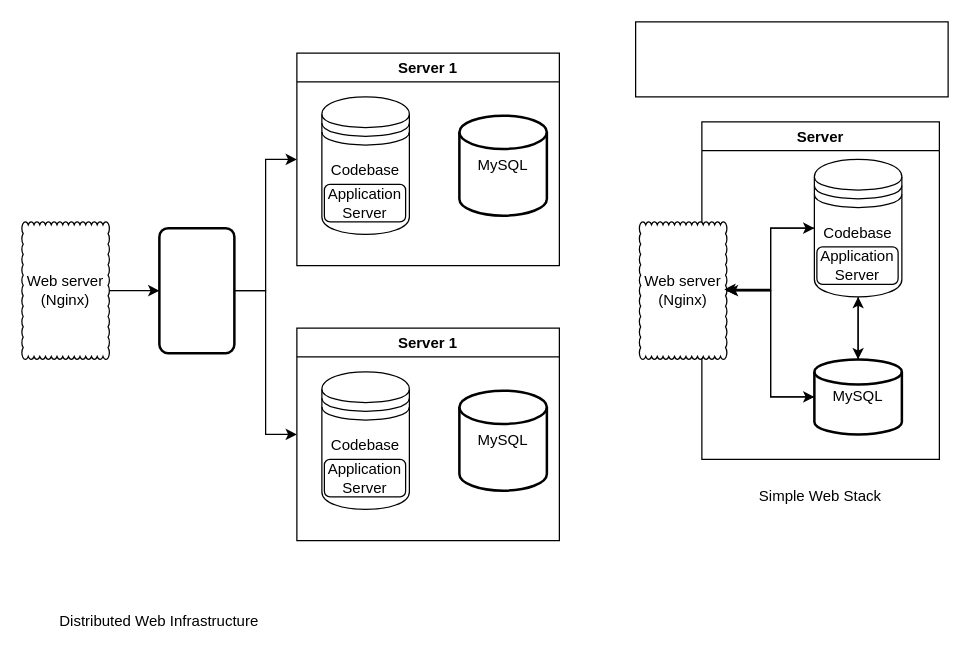
This 970x663 diagram has some shape labels left out. Here are the shapes that lost their labels. From the top down, the box of each, then its label:
(634, 21, 948, 97): CNAME: www.foobar.com foobar.com A: foobar.com 8.8.8.8
(158, 226, 235, 354): Load Balancer (HAproxy)
